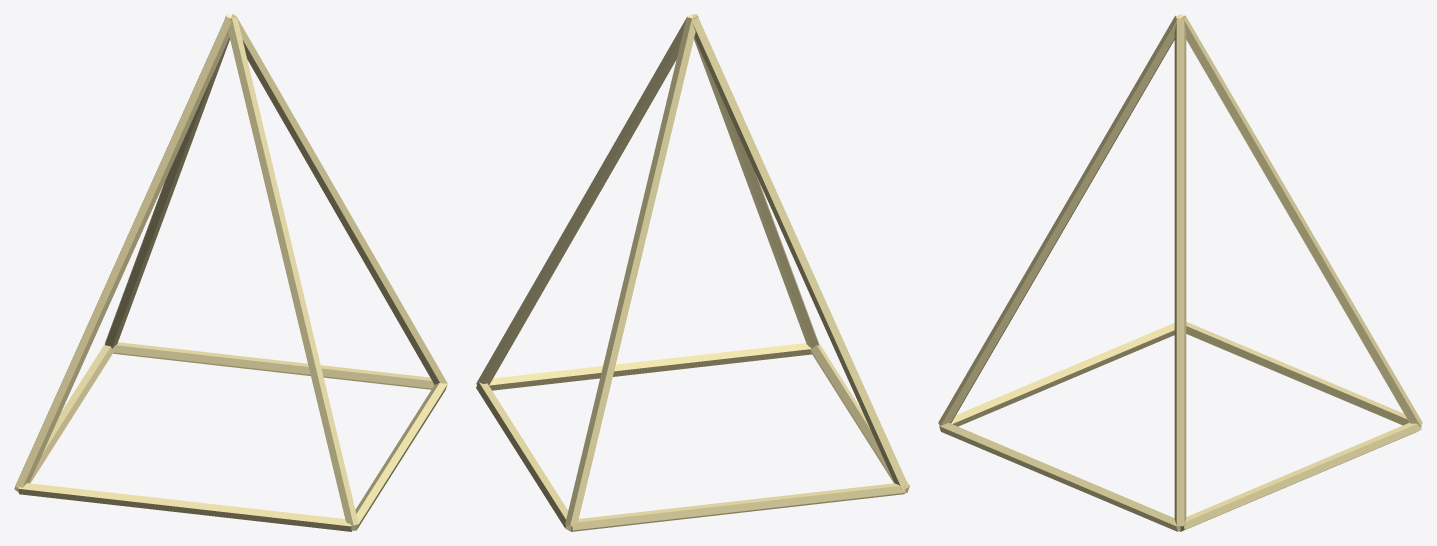
The model's file is holograma_piramide.glb.
3 views of the same model, side by side, from view 1: azimuth 30°, elevation 25°; view 2: azimuth 150°, elevation 25°; view 3: azimuth 270°, elevation 25° (orthographic). The views are drawn at different scales.
Visible parts, largest first — view 1: holograma_piramide; view 2: holograma_piramide; view 3: holograma_piramide.
Part boxes in pixels (x1,y1,x2,y2): holograma_piramide: (14,14,447,531); holograma_piramide: (476,14,909,531); holograma_piramide: (938,14,1422,531).
Bounding box in the file's own units: 1.94 × 1.84 × 1.94.
